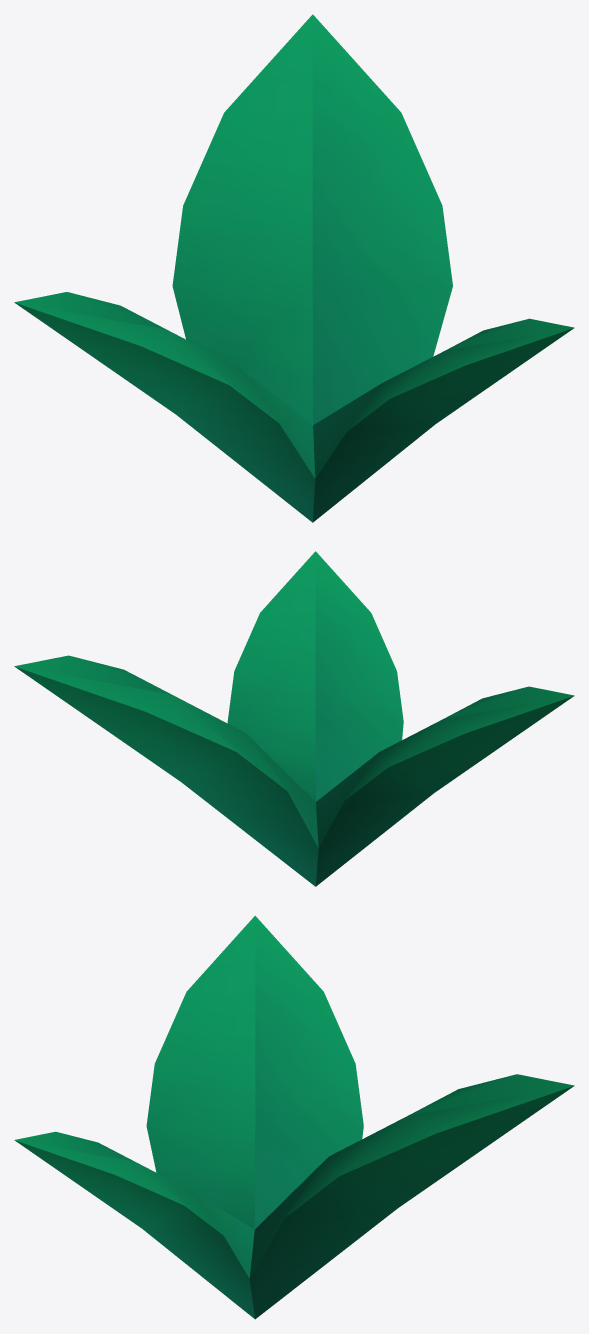
The model's file is waterplant.glb.
The picture shows the model from 3 angles, top to bottom: view 1: azimuth 30°, elevation 25°; view 2: azimuth 150°, elevation 25°; view 3: azimuth 270°, elevation 25°; orthographic projection. The views are drawn at different scales.
Parts seen in each view (by area): view 1: waterplant_A; view 2: waterplant_A; view 3: waterplant_A.
Boxes of the visible parts, <box> form: waterplant_A: <box>14,14,574,522</box>; waterplant_A: <box>14,551,574,886</box>; waterplant_A: <box>14,915,574,1319</box>.
Size of the model in its own units: 0.1983 by 0.1323 by 0.2157.
Materials: 1 (1 with a texture image).
